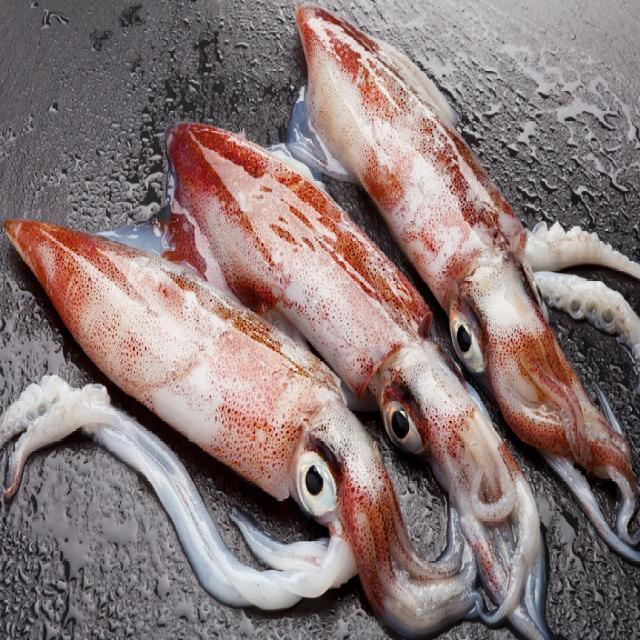SQUID: (264, 0, 640, 527), (105, 122, 529, 479), (0, 210, 387, 596)
